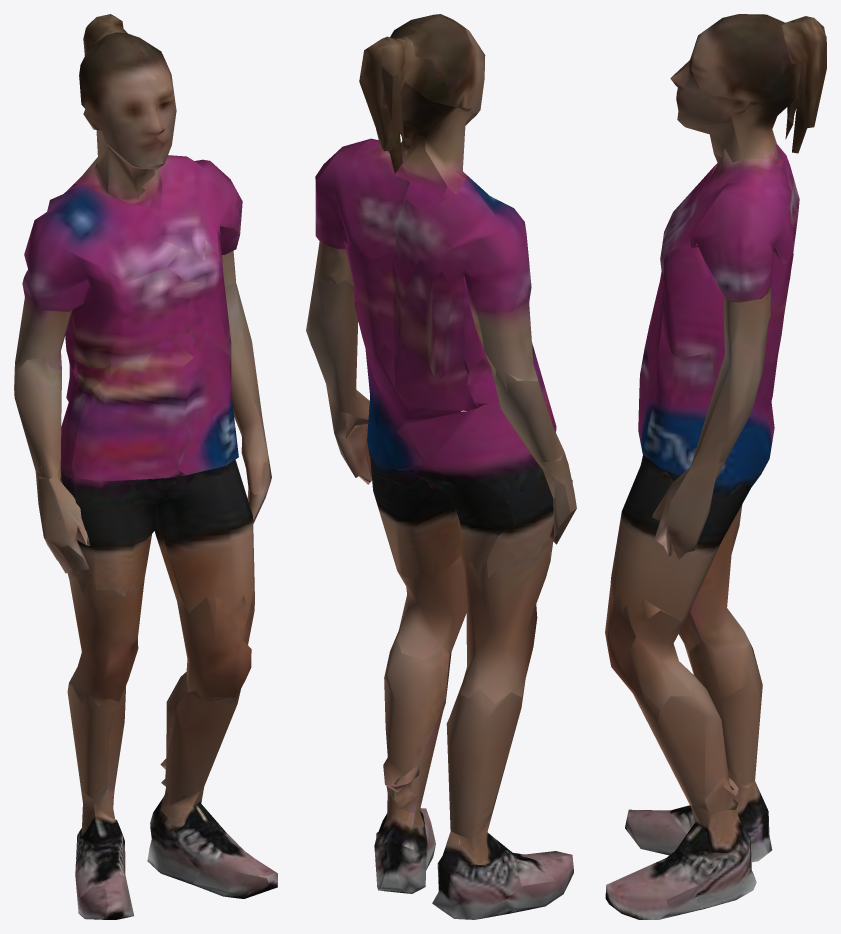
The model's file is 5_1_idle_lod2.glb.
The picture shows the model from 3 angles, left to right: view 1: azimuth 30°, elevation 25°; view 2: azimuth 150°, elevation 25°; view 3: azimuth 270°, elevation 25°; orthographic projection. The views are drawn at different scales.
Parts seen in each view (by area): view 1: Idle; view 2: Idle; view 3: Idle.
Part boxes in pixels (box(x1,y1,x2,y2)): Idle: box(14, 14, 277, 919); Idle: box(306, 14, 576, 919); Idle: box(605, 14, 826, 919).
Bounding box in the file's own units: 27.8 × 97.46 × 22.72.
Materials: 1 (1 with a texture image).
